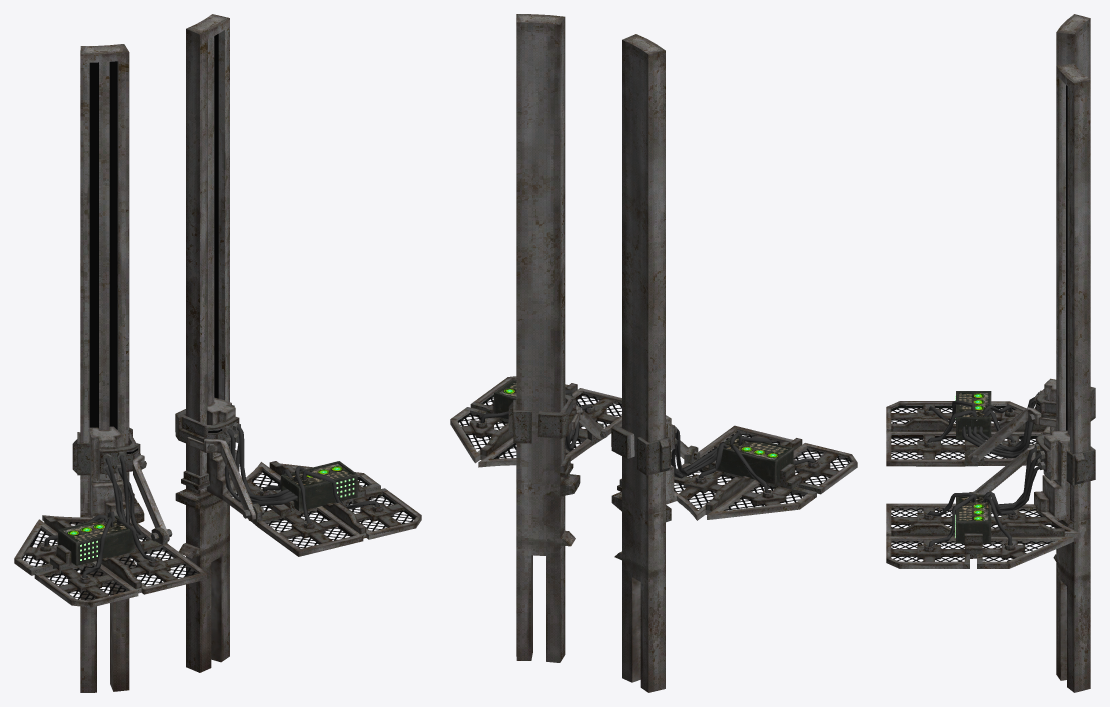
File: item remover main2.glb
3 views of the same model, side by side, from view 1: azimuth 30°, elevation 25°; view 2: azimuth 150°, elevation 25°; view 3: azimuth 270°, elevation 25° (orthographic). The views are drawn at different scales.
Visible parts, largest first — view 1: item remover guide rail_001, item remover guide rail, item remover carriage, item remover carriage_001, item remover electronics_001, item remover electronics, item remover grille_004; view 2: item remover guide rail_001, item remover guide rail, item remover carriage, item remover carriage_001, item remover electronics, item remover electronics_001; view 3: item remover guide rail_001, item remover carriage_001, item remover carriage, item remover electronics_001, item remover electronics, item remover guide rail, item remover grille_001, item remover grille_005, item remover grille_007.
Boxes of the visible parts, x1,y1,x2,y2 form: item remover guide rail_001: (175, 14, 229, 672); item remover guide rail: (80, 44, 144, 692); item remover carriage: (14, 426, 208, 607); item remover carriage_001: (175, 397, 421, 556); item remover electronics_001: (224, 425, 379, 523); item remover electronics: (44, 455, 155, 578); item remover grille_004: (266, 511, 352, 547); item remover guide rail_001: (516, 14, 580, 662); item remover guide rail: (611, 34, 671, 692); item remover carriage: (611, 415, 857, 520); item remover carriage_001: (450, 376, 621, 472); item remover electronics: (671, 427, 815, 493); item remover electronics_001: (480, 379, 591, 451); item remover guide rail_001: (1053, 63, 1090, 692); item remover carriage_001: (886, 430, 1095, 568); item remover carriage: (886, 378, 1095, 466); item remover electronics_001: (927, 447, 1040, 546); item remover electronics: (927, 391, 1039, 457); item remover guide rail: (1056, 14, 1090, 78); item remover grille_001: (891, 436, 964, 459); item remover grille_005: (891, 541, 964, 561); item remover grille_007: (982, 541, 1054, 561).
Bounding box in the file's own units: 12.22 × 21.29 × 6.63.
Materials: 9 (6 with a texture image).
